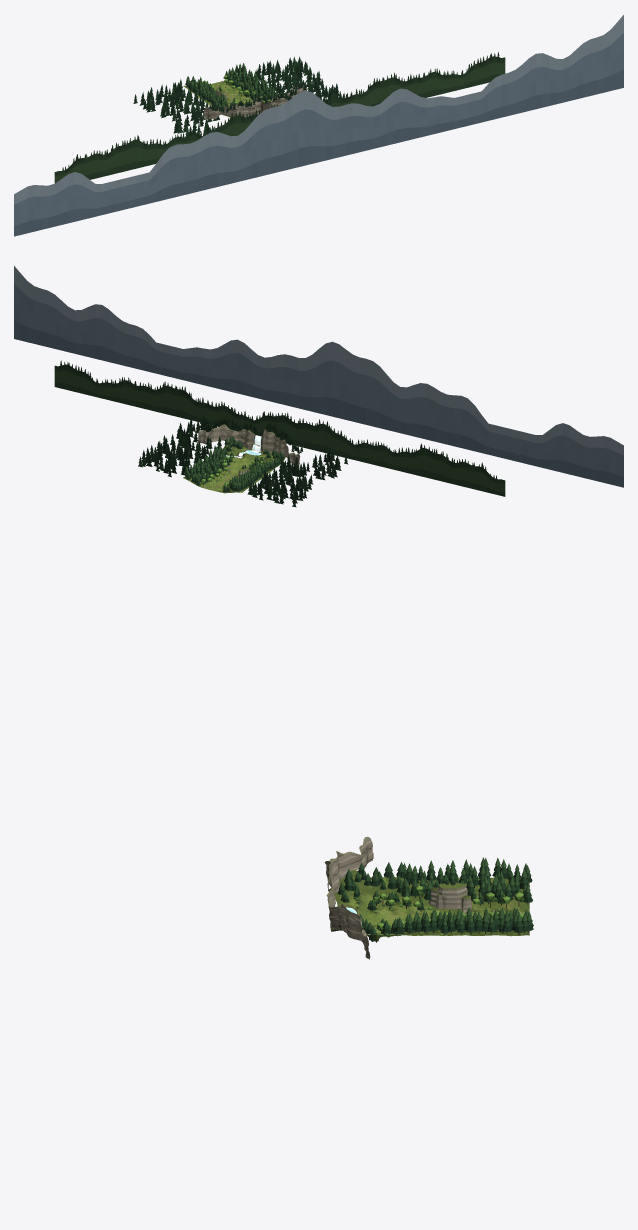
The model's file is falls.glb.
3 views of the same model, one above another, from view 1: azimuth 30°, elevation 25°; view 2: azimuth 150°, elevation 25°; view 3: azimuth 270°, elevation 25° (orthographic). The views are drawn at different scales.
Visible parts, largest first — view 1: S_Paint; view 2: S_Paint; view 3: S_Paint, S_Foliage.
Part boxes in pixels (box(x1,y1,x2,y2)): S_Paint: box(14, 15, 623, 236); S_Paint: box(14, 266, 623, 507); S_Paint: box(324, 836, 533, 959); S_Foliage: box(367, 885, 524, 937).
Bounding box in the file's own units: 920 × 108 × 281.
